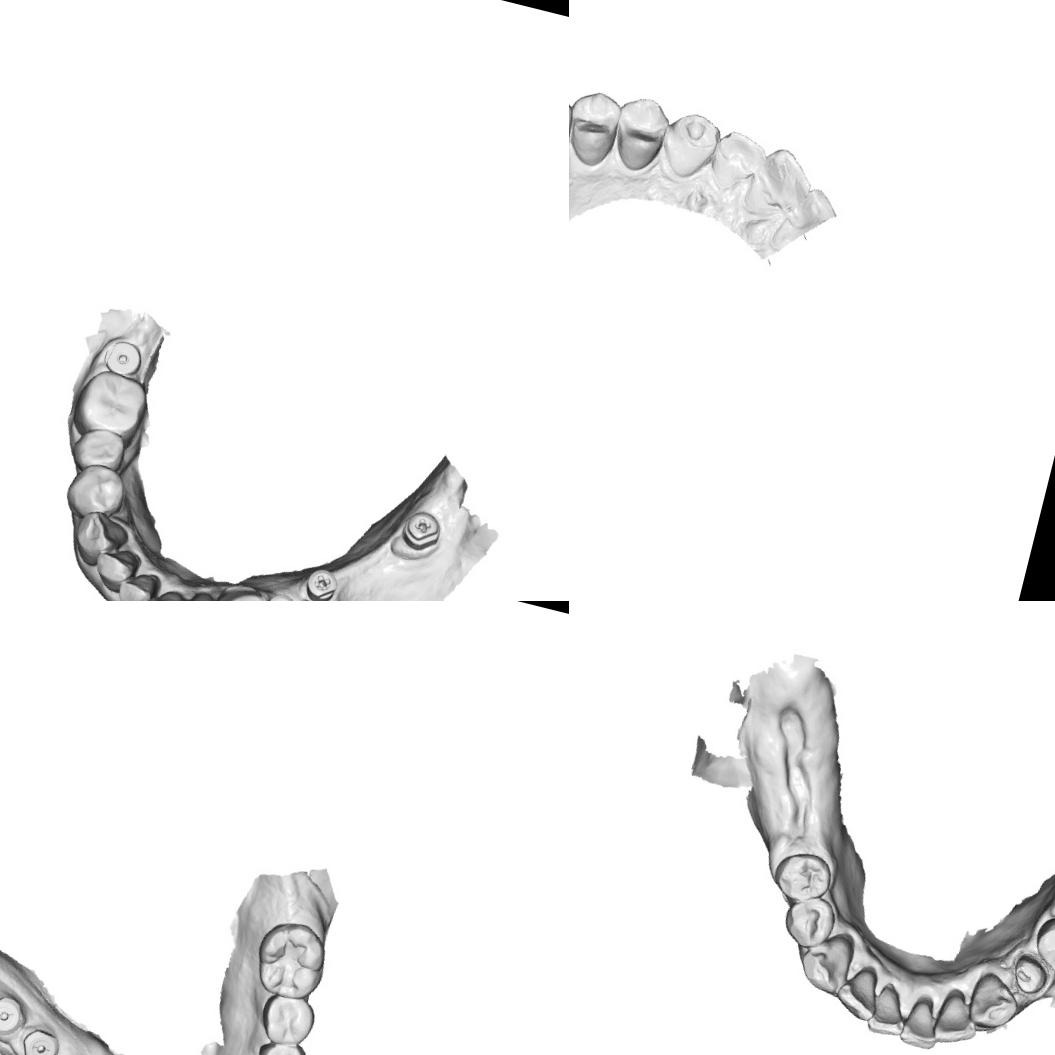canine: (654, 103, 722, 184), (792, 922, 860, 1000), (60, 504, 134, 575), (962, 966, 1026, 1038), (208, 575, 274, 601)
crown: (1004, 949, 1055, 1002)
implant: (98, 333, 148, 381)
implant_minus: (15, 1024, 63, 1055), (0, 989, 26, 1039)
implant_plus: (395, 504, 448, 558), (298, 562, 346, 601), (261, 588, 301, 601)
incisor: (745, 141, 822, 214), (702, 122, 770, 202), (926, 987, 985, 1053), (830, 957, 887, 1025), (88, 540, 144, 597), (863, 982, 915, 1042), (895, 996, 947, 1054), (110, 562, 165, 601), (136, 583, 189, 601), (174, 584, 227, 601)
molar: (247, 914, 334, 1006), (66, 363, 156, 445)
premolar: (606, 89, 677, 178), (569, 81, 627, 171), (765, 842, 841, 910), (59, 456, 131, 525), (776, 887, 842, 956), (254, 988, 319, 1052), (67, 420, 133, 478), (1027, 909, 1055, 982), (249, 1033, 312, 1055)
